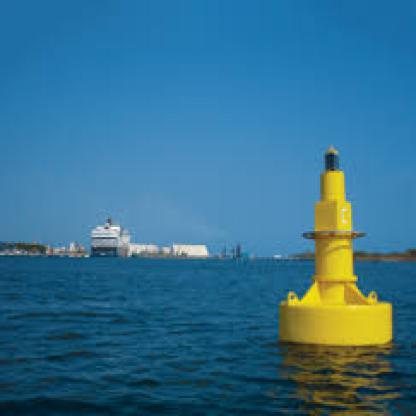buoy: (264, 136, 399, 354)
